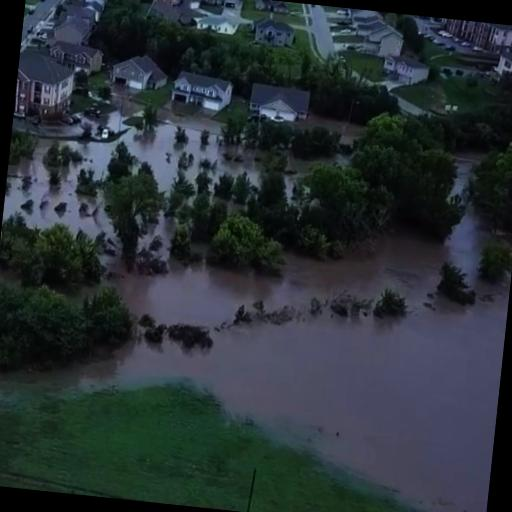flood: (0, 112, 511, 512)
house: (12, 36, 80, 128), (170, 70, 237, 119), (244, 81, 314, 126), (108, 52, 170, 98), (444, 19, 512, 56), (52, 39, 104, 78), (378, 48, 428, 88), (250, 18, 294, 50), (366, 23, 402, 59), (495, 34, 512, 103), (200, 0, 244, 21), (256, 0, 289, 18), (348, 8, 382, 22)
